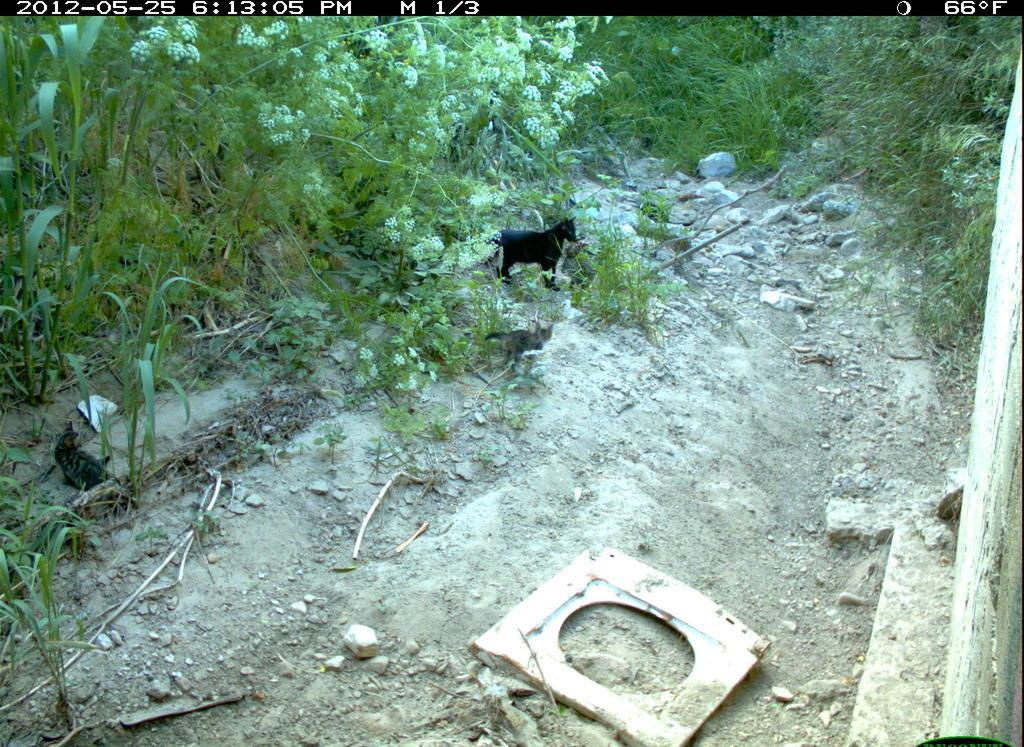cat: (486, 203, 619, 294), (39, 405, 140, 501)
